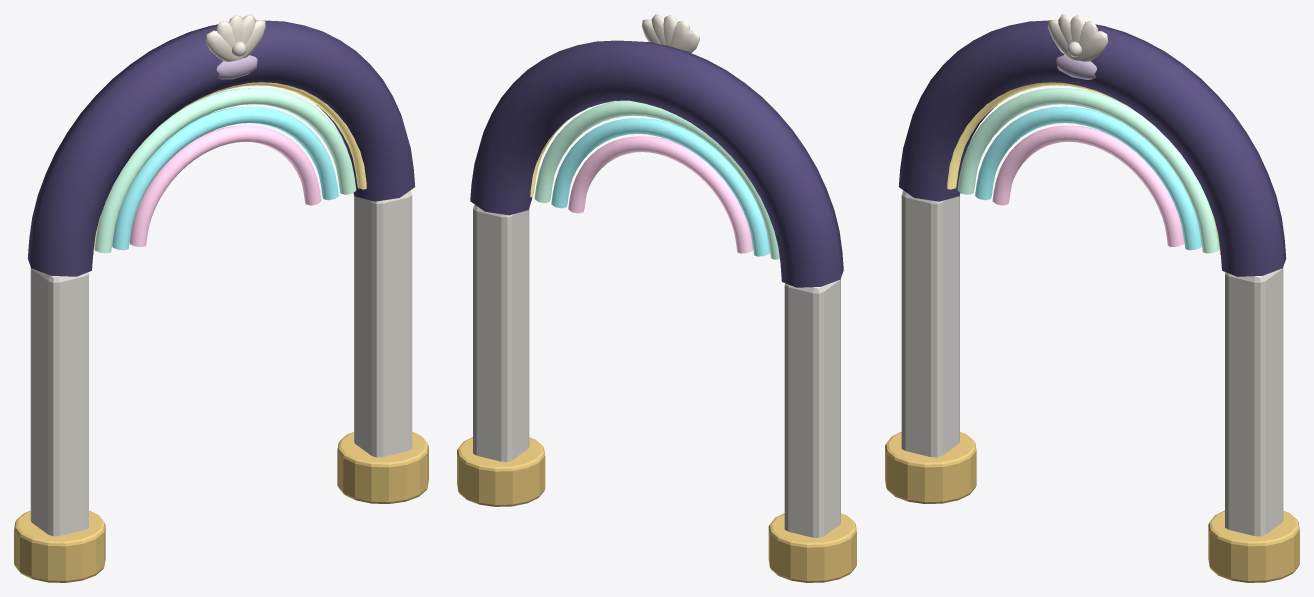
Rendered from pearl_rainbow_gate.glb.
The picture shows the model from 3 angles, left to right: view 1: azimuth 30°, elevation 25°; view 2: azimuth 150°, elevation 25°; view 3: azimuth 330°, elevation 25°; orthographic projection. The views are drawn at different scales.
Parts seen in each view (by area): view 1: pearl_rainbow_gate.001; view 2: pearl_rainbow_gate.001; view 3: pearl_rainbow_gate.001.
Boxes of the visible parts, left/top/right/bottom form: pearl_rainbow_gate.001: left=14, top=14, right=428, bottom=582; pearl_rainbow_gate.001: left=457, top=14, right=856, bottom=582; pearl_rainbow_gate.001: left=885, top=14, right=1299, bottom=582.
Bounding box in the file's own units: 10.6 × 13.11 × 2.1.
